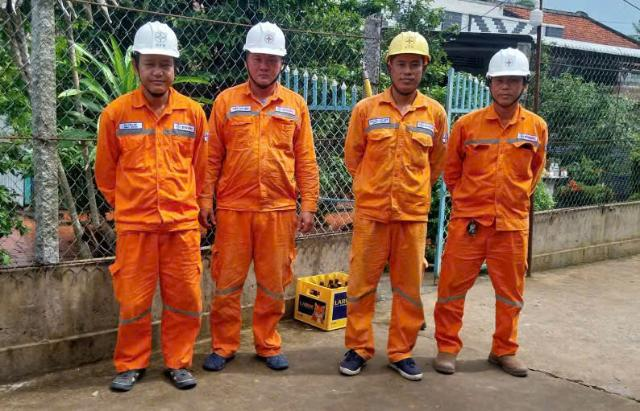helmet: (122, 14, 190, 64), (390, 19, 440, 71), (486, 40, 532, 88), (241, 17, 288, 63)
shoes: (196, 333, 243, 376), (488, 341, 533, 379), (331, 343, 373, 382), (429, 345, 466, 383), (166, 357, 202, 394), (106, 362, 146, 393), (388, 348, 423, 383), (257, 345, 294, 374)
